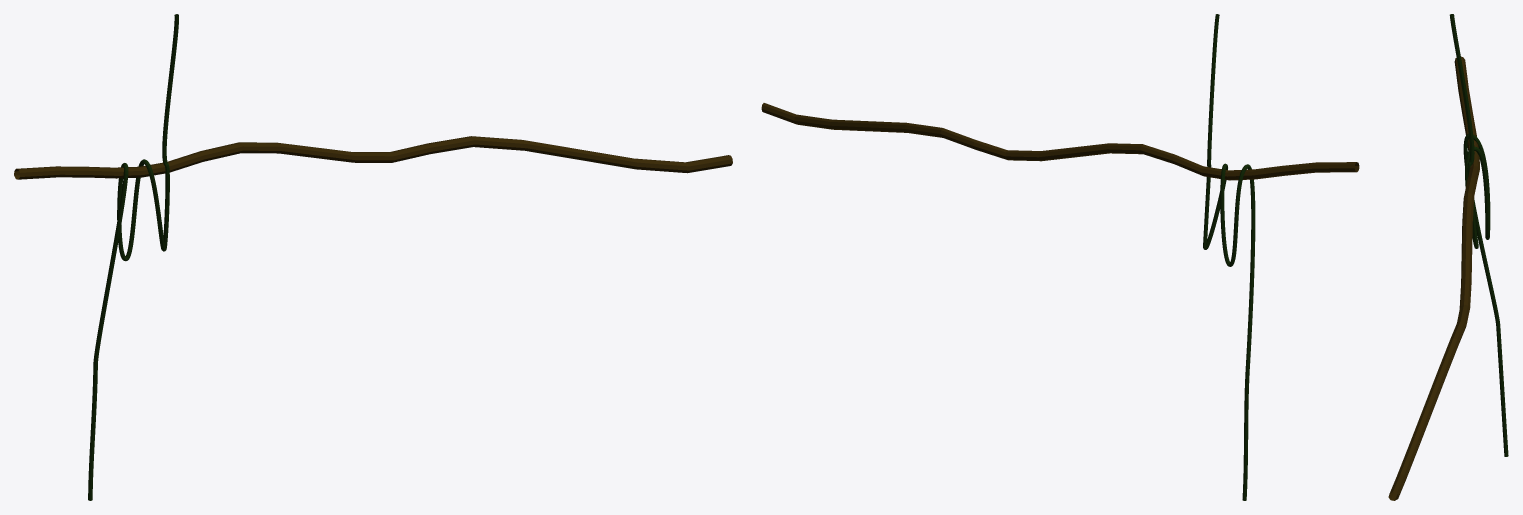
File: PnączeKonar.fbx
The picture shows the model from 3 angles, left to right: view 1: azimuth 30°, elevation 25°; view 2: azimuth 150°, elevation 25°; view 3: azimuth 270°, elevation 25°; orthographic projection. The views are drawn at different scales.
Visible parts, largest first — view 1: BezierCurve.006, BezierCurve.005; view 2: BezierCurve.006, BezierCurve.005; view 3: BezierCurve.006, BezierCurve.005.
Boxes of the visible parts, bbox=[...] form: BezierCurve.006: bbox=[14, 136, 732, 179]; BezierCurve.005: bbox=[88, 14, 178, 500]; BezierCurve.006: bbox=[761, 103, 1359, 180]; BezierCurve.005: bbox=[1203, 14, 1255, 500]; BezierCurve.006: bbox=[1388, 56, 1479, 500]; BezierCurve.005: bbox=[1449, 14, 1508, 456].
Bounding box in the file's own units: 16.14 × 11.16 × 2.59.
